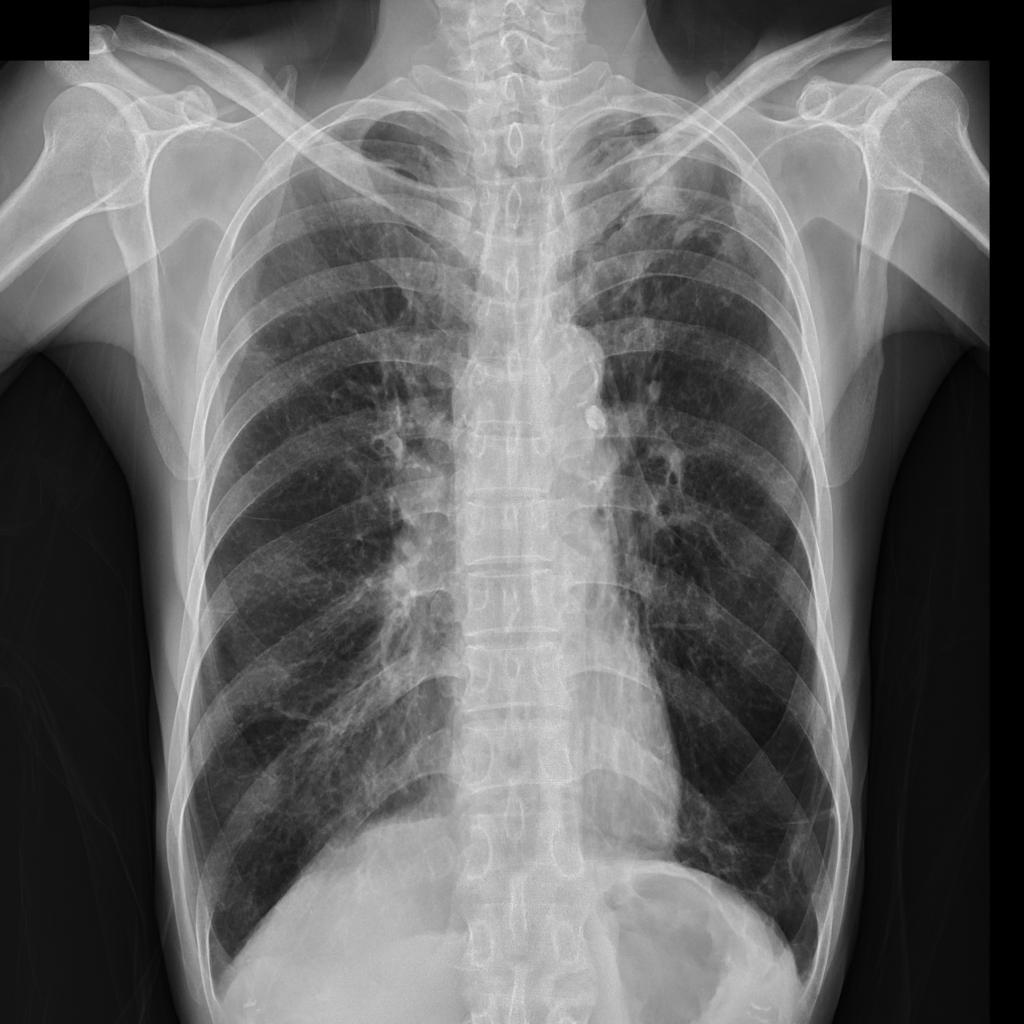Nodule: (623, 148, 685, 215)
